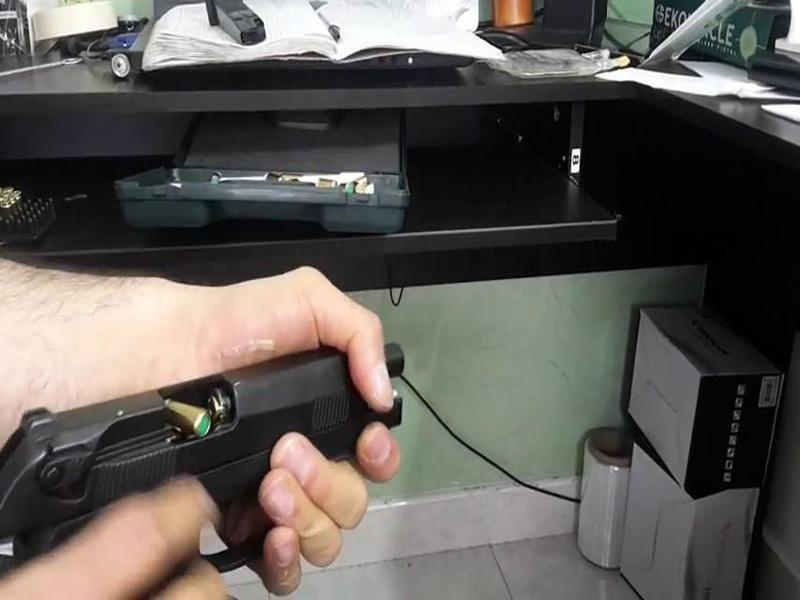Pistola: (6, 334, 432, 593)
